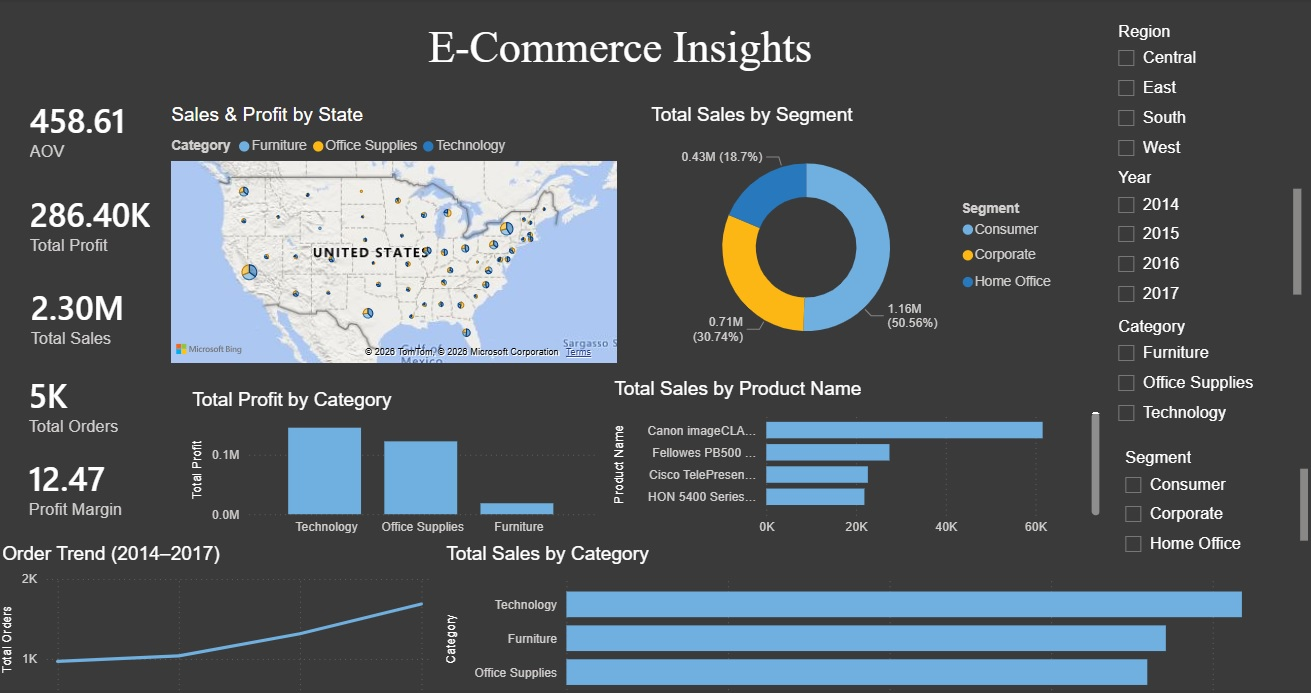

This screenshot's page, from the dashboard's own definition file:
{"tool":"powerbi","page":{"name":"Page 1","canvas":[1280,720],"ordinal":0},"visuals":[{"type":"cardVisual","fields":{"Data":["Sample - Superstore.AOV"]},"box":[1.9,72,182.9,106],"z":0},{"type":"cardVisual","fields":{"Data":["Sample - Superstore.Profit Margin"]},"box":[1,419.2,163.4,109.9],"z":1000},{"type":"cardVisual","fields":{"Data":["Sample - Superstore.Total Orders"]},"box":[1,341.4,173.1,103.1],"z":2000},{"type":"cardVisual","fields":{"Data":["Sample - Superstore.Total Profit"]},"box":[1.9,159.5,186.7,114.8],"z":3000},{"type":"cardVisual","fields":{"Data":["Sample - Superstore.Total Sales"]},"box":[2.9,254.8,183.8,105],"z":4000},{"type":"lineChart","title":"Order Trend (2014–2017)","fields":{"Y":["Sample - Superstore.Total Orders"],"Category":["Sample - Superstore.Order Date.Variation.Date Hierarchy.Year","Sample - Superstore.Order Date.Variation.Date Hierarchy.Month"]},"box":[0,529.1,431.9,190.6],"z":5000},{"type":"barChart","fields":{"Category":["Sample - Superstore.Category"],"Y":["Sample - Superstore.Total Sales"]},"box":[431.9,529.1,848.1,190.6],"z":6000},{"type":"columnChart","fields":{"Category":["Sample - Superstore.Category"],"Y":["Sample - Superstore.Total Profit"]},"box":[184.8,379.3,402.7,149.8],"z":7000},{"type":"barChart","fields":{"Category":["Sample - Superstore.Product Name"],"Y":["Sample - Superstore.Total Sales"]},"box":[595.3,368.6,482.4,160.5],"z":8000},{"type":"map","title":"Sales & Profit by State","fields":{"Category":["Sample - Superstore.State"],"Size":["Sample - Superstore.Total Sales"],"Series":["Sample - Superstore.Category"]},"box":[164.4,102.1,443.5,257.8],"z":9000},{"type":"donutChart","fields":{"Category":["Sample - Superstore.Segment"],"Y":["Sample - Superstore.Total Sales"]},"box":[631.2,102.1,407.5,257.8],"z":10000},{"type":"slicer","fields":{"Values":["Sample - Superstore.Region"]},"box":[1077.7,17.5,202.3,152.7],"z":11000},{"type":"slicer","fields":{"Values":["Sample - Superstore.Category"]},"box":[1077.7,304.4,202.3,116.7],"z":12000},{"type":"slicer","fields":{"Values":["Sample - Superstore.Order Date.Variation.Date Hierarchy.Year"]},"box":[1077.7,159.5,195.5,144.9],"z":13000},{"type":"slicer","fields":{"Values":["Sample - Superstore.Segment"]},"box":[1084.5,431.9,195.5,111.9],"z":14000},{"type":"textbox","box":[414.3,17.5,464.9,65.2],"z":15000}]}

Visuals, with their boxes on the page's 1280x720 design canvas (x1, y1, x2, y2). These are canvas units, not pixel positions in the 1311x693 screenshot, which may show the page scaled, cropped or inside an application window:
cardVisual - Sample - Superstore.AOV: rect(2, 72, 185, 178)
cardVisual - Sample - Superstore.Profit Margin: rect(1, 419, 164, 529)
cardVisual - Sample - Superstore.Total Orders: rect(1, 341, 174, 444)
cardVisual - Sample - Superstore.Total Profit: rect(2, 160, 189, 274)
cardVisual - Sample - Superstore.Total Sales: rect(3, 255, 187, 360)
"Order Trend (2014–2017)" lineChart: rect(0, 529, 432, 720)
barChart - Sample - Superstore.Category x Sample - Superstore.Total Sales: rect(432, 529, 1280, 720)
columnChart - Sample - Superstore.Category x Sample - Superstore.Total Profit: rect(185, 379, 588, 529)
barChart - Sample - Superstore.Product Name x Sample - Superstore.Total Sales: rect(595, 369, 1078, 529)
"Sales & Profit by State" map: rect(164, 102, 608, 360)
donutChart - Sample - Superstore.Segment x Sample - Superstore.Total Sales: rect(631, 102, 1039, 360)
slicer - Sample - Superstore.Region: rect(1078, 18, 1280, 170)
slicer - Sample - Superstore.Category: rect(1078, 304, 1280, 421)
slicer - Sample - Superstore.Order Date.Variation.Date Hierarchy.Year: rect(1078, 160, 1273, 304)
slicer - Sample - Superstore.Segment: rect(1084, 432, 1280, 544)
textbox: rect(414, 18, 879, 83)
